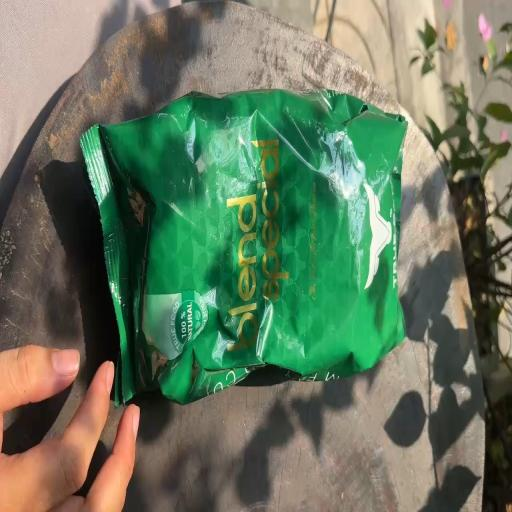cafe_xay: (81, 90, 406, 404)
